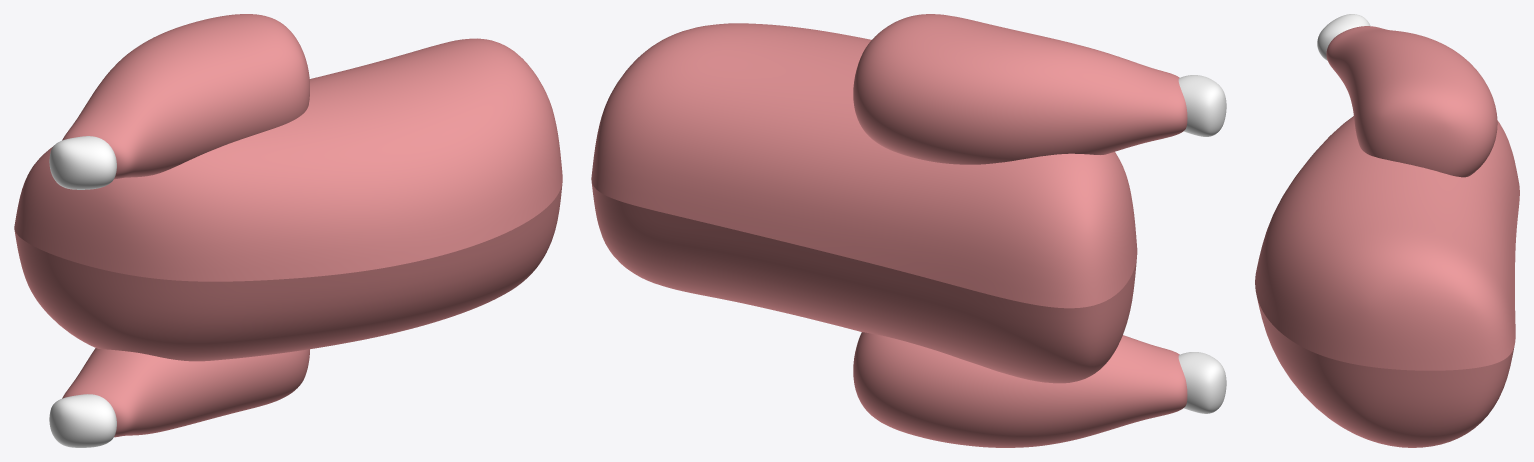
File: Chicken.fbx
3 views of the same model, side by side, from view 1: azimuth 30°, elevation 25°; view 2: azimuth 150°, elevation 25°; view 3: azimuth 270°, elevation 25° (orthographic). The views are drawn at different scales.
Parts seen in each view (by area): view 1: Cube.005, Cube.006; view 2: Cube.005, Cube.006; view 3: Cube.005, Cube.006.
Part boxes in pixels (<box>): Cube.005: <box>14,14,562,281</box>; Cube.006: <box>14,182,562,447</box>; Cube.005: <box>591,14,1226,308</box>; Cube.006: <box>591,182,1226,447</box>; Cube.005: <box>1255,14,1519,370</box>; Cube.006: <box>1257,298,1514,447</box>.
Bounding box in the file's own units: 424 × 290 × 209.
